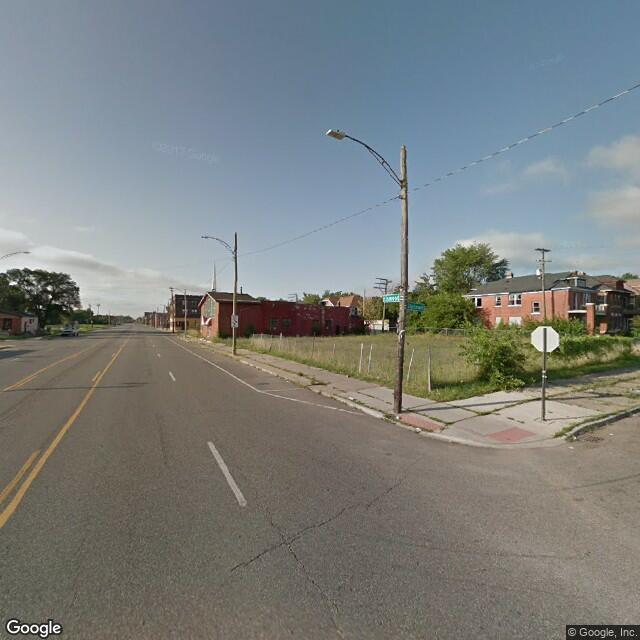litter: (569, 433, 577, 443), (413, 426, 423, 433), (393, 417, 404, 423)
